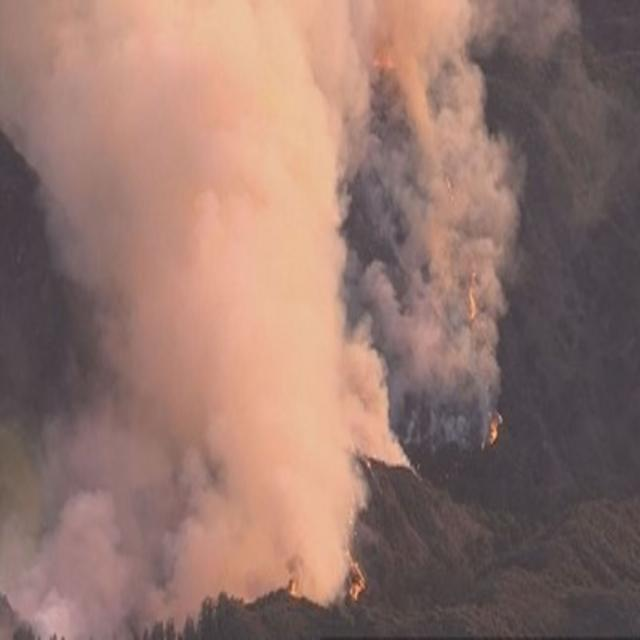smoke: (113, 31, 319, 566), (346, 12, 485, 380)
